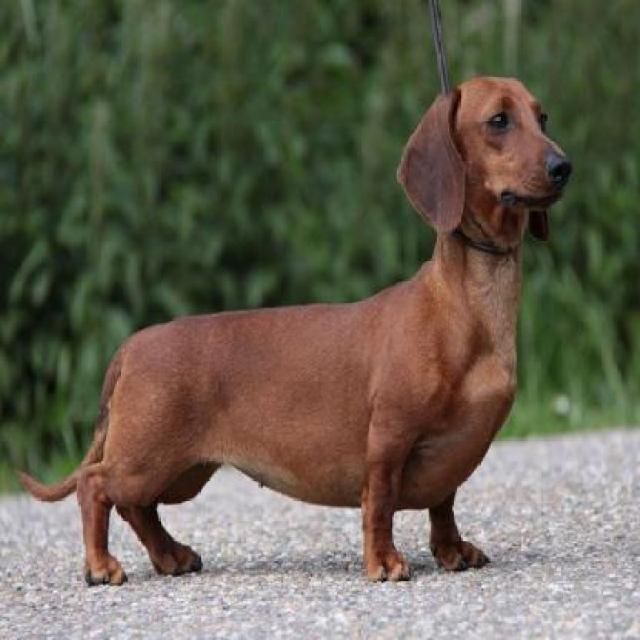Dog: (11, 69, 575, 591)
